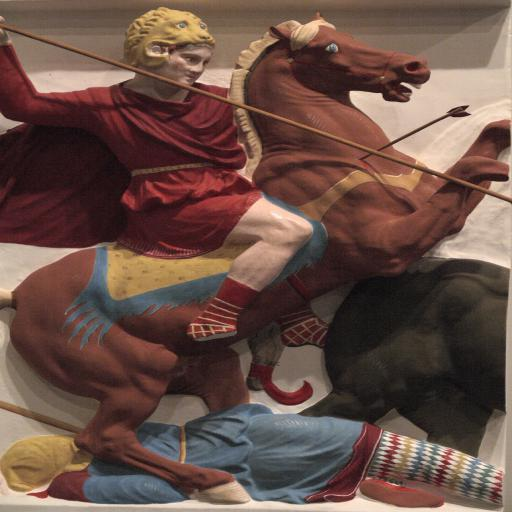horse: (0, 9, 512, 500), (295, 256, 512, 458)
